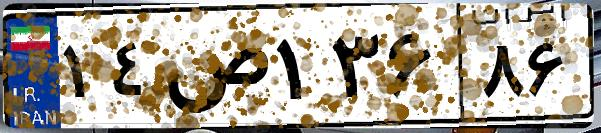1: (270, 28, 330, 110), (57, 26, 110, 100)
3: (330, 28, 385, 110)
4: (110, 28, 158, 98)
6: (385, 28, 445, 110), (525, 38, 570, 115)
8: (475, 38, 525, 113)
ص: (158, 20, 270, 120)
